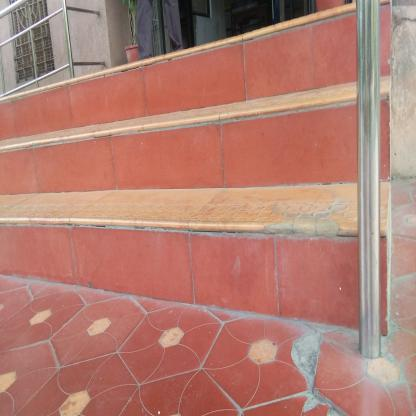stairs: (143, 36, 298, 319)
